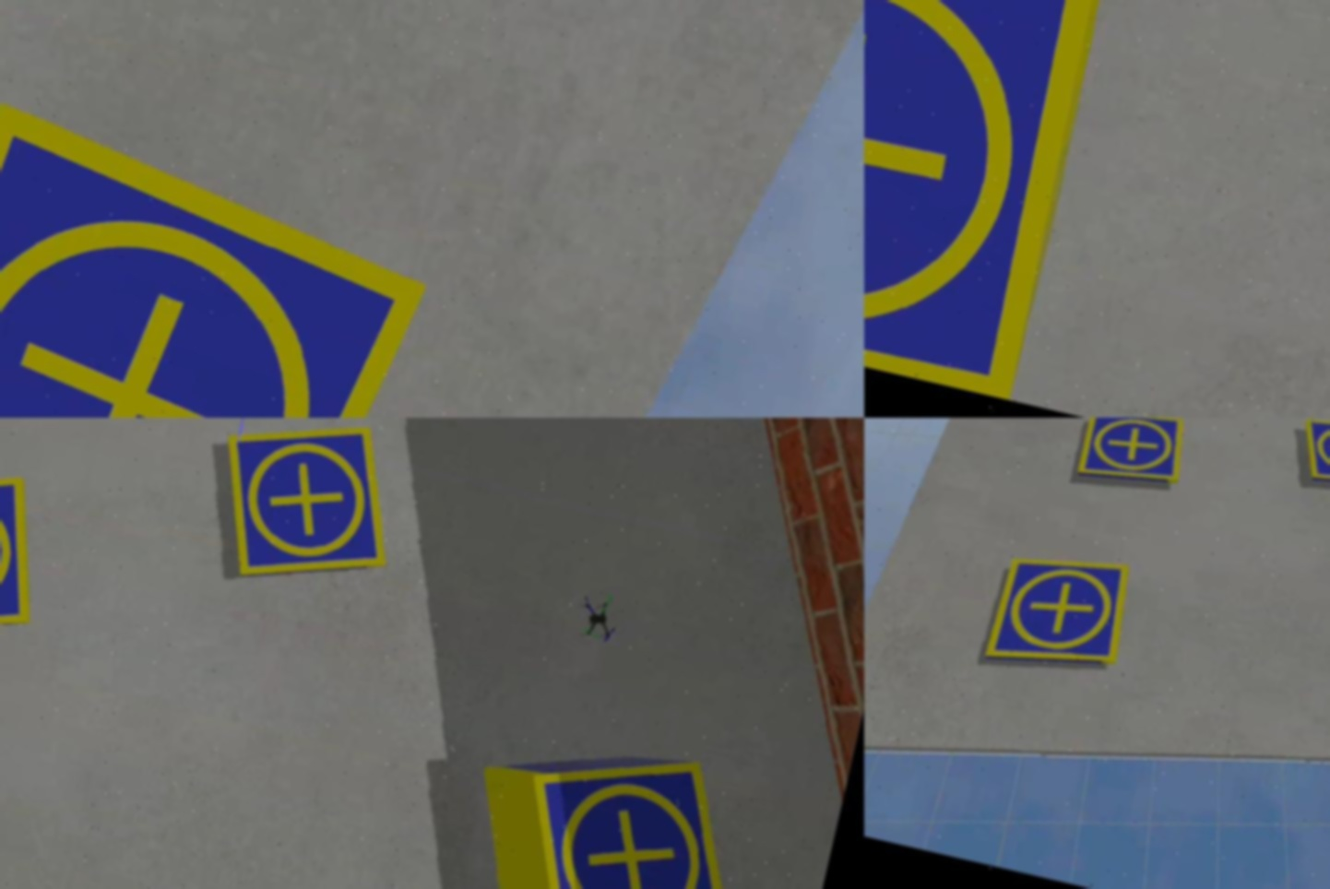small_base: (1, 87, 448, 419), (865, 1, 1109, 398), (490, 729, 771, 889), (201, 419, 413, 605), (985, 542, 1134, 686), (1, 449, 59, 668), (1070, 419, 1191, 498), (1292, 419, 1330, 503)
